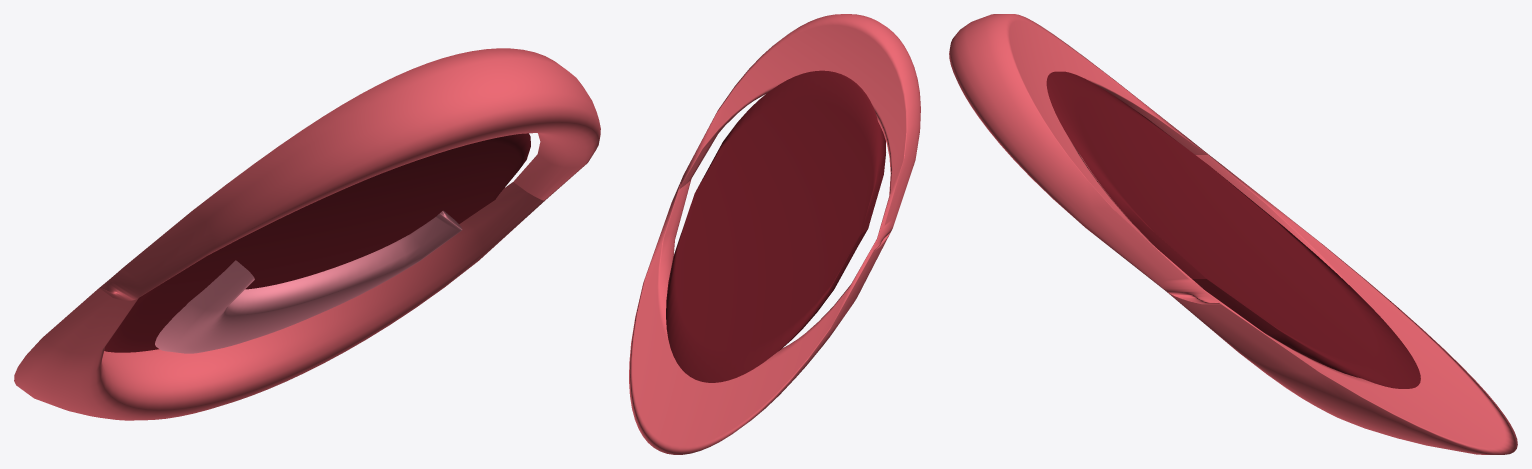
File: mouth-oh.glb
3 views of the same model, side by side, from view 1: azimuth 30°, elevation 25°; view 2: azimuth 150°, elevation 25°; view 3: azimuth 270°, elevation 25° (orthographic). The views are drawn at different scales.
Visible parts, largest first — view 1: upperlip, lowerlip, inside, tongue; view 2: inside, lowerlip, upperlip; view 3: inside, upperlip, lowerlip.
Part boxes in pixels (bbox=[...]): upperlip: bbox=[99, 48, 600, 300]; lowerlip: bbox=[14, 182, 544, 420]; inside: bbox=[104, 133, 530, 352]; tongue: bbox=[155, 210, 462, 353]; inside: bbox=[666, 70, 885, 382]; lowerlip: bbox=[629, 179, 889, 454]; upperlip: bbox=[679, 14, 920, 251]; inside: bbox=[1046, 71, 1420, 388]; upperlip: bbox=[949, 14, 1220, 304]; lowerlip: bbox=[1167, 154, 1517, 454].
Bounding box in the file's own units: 0.085 × 0.12 × 0.1479.
